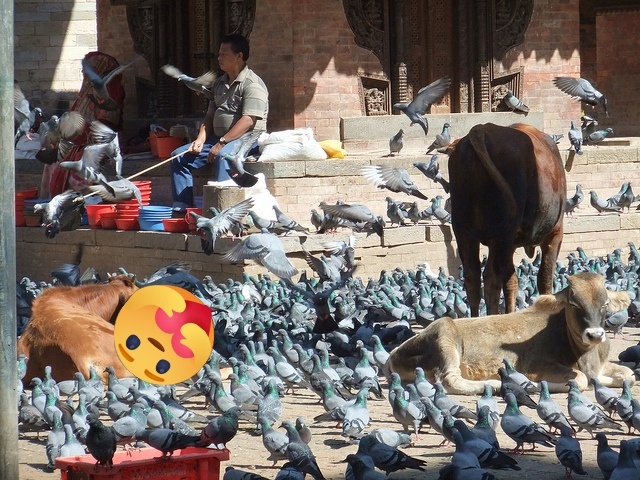care: (114, 285, 214, 385)
